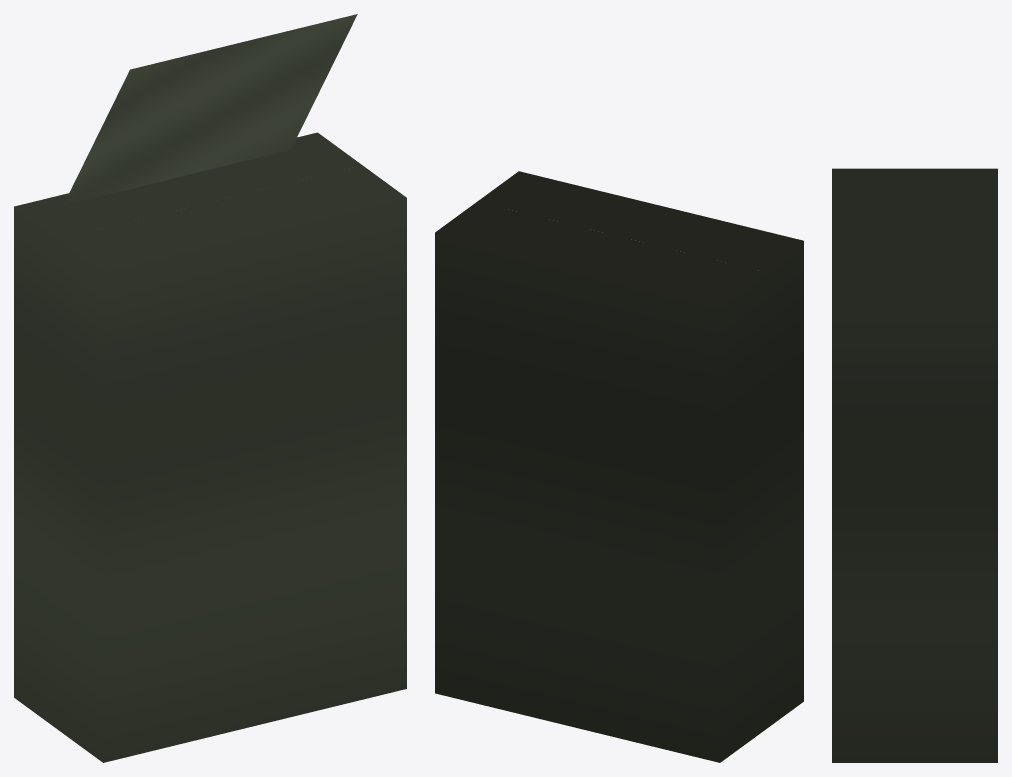
File: prop_breaker_box_a.glb
3 renders of one model, left to right at view 1: azimuth 30°, elevation 25°; view 2: azimuth 150°, elevation 25°; view 3: azimuth 270°, elevation 25°, orthographic. The views are drawn at different scales.
Parts seen in each view (by area): view 1: prop_breaker_box_a; view 2: prop_breaker_box_a; view 3: prop_breaker_box_a.
Part boxes in pixels (x1,y1,x2,y2): prop_breaker_box_a: [14, 14, 406, 762]; prop_breaker_box_a: [435, 171, 803, 762]; prop_breaker_box_a: [832, 168, 997, 762].
Size of the model in its own units: 0.55 by 1.17 by 0.28.
1 material, 1 textured.
